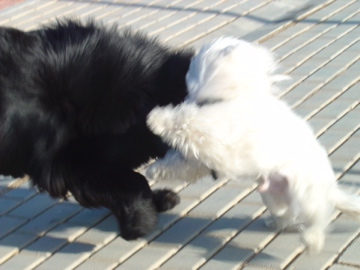dog: (1, 13, 223, 242), (144, 34, 360, 259)
